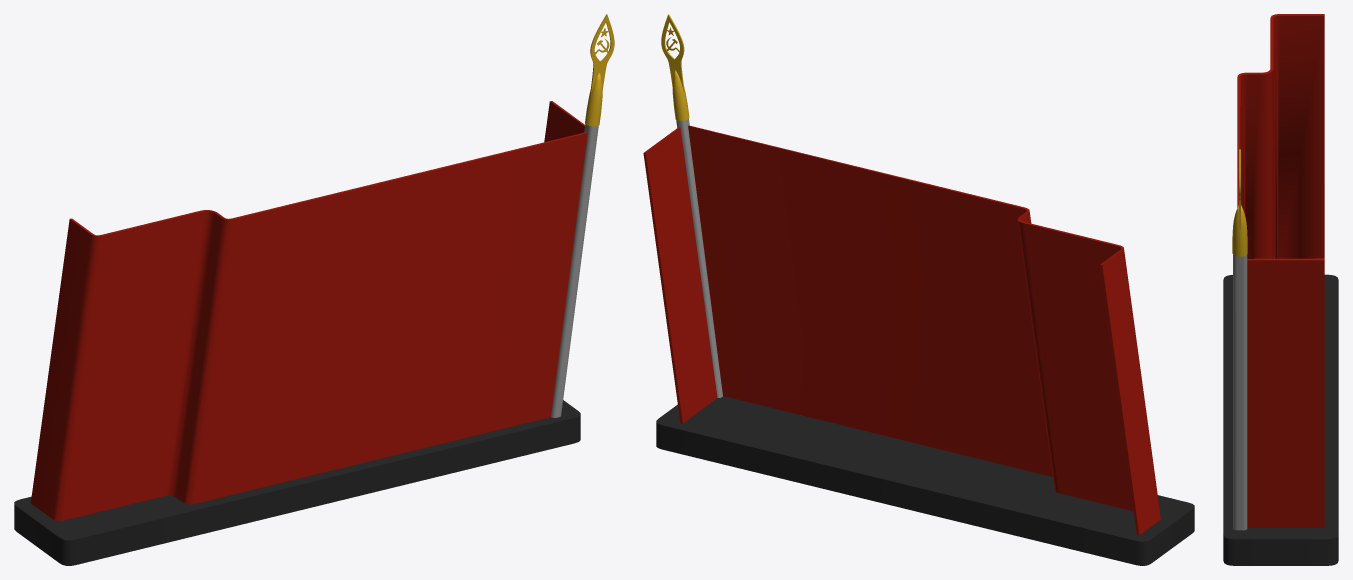
Rendered from flag Marx Engels Lenin.fbx.
The picture shows the model from 3 angles, left to right: view 1: azimuth 30°, elevation 25°; view 2: azimuth 150°, elevation 25°; view 3: azimuth 270°, elevation 25°; orthographic projection. The views are drawn at different scales.
Visible parts, largest first — view 1: Line001, Box001, Object001, Cylinder003; view 2: Line001, Box001, Object001, Cylinder003; view 3: Line001, Box001, Object001, Cylinder003.
Boxes of the visible parts, x1,y1,x2,y2 form: Line001: (30,101,587,520); Box001: (14,400,580,565); Object001: (551,124,598,417); Cylinder003: (585,14,614,126); Line001: (643,125,1160,535); Box001: (656,396,1194,565); Object001: (676,119,722,397); Cylinder003: (661,14,689,120); Line001: (1237,14,1324,527); Box001: (1223,274,1338,565); Object001: (1233,254,1247,530); Cylinder003: (1232,149,1247,256).
Bounding box in the file's own units: 612 × 434 × 105.
